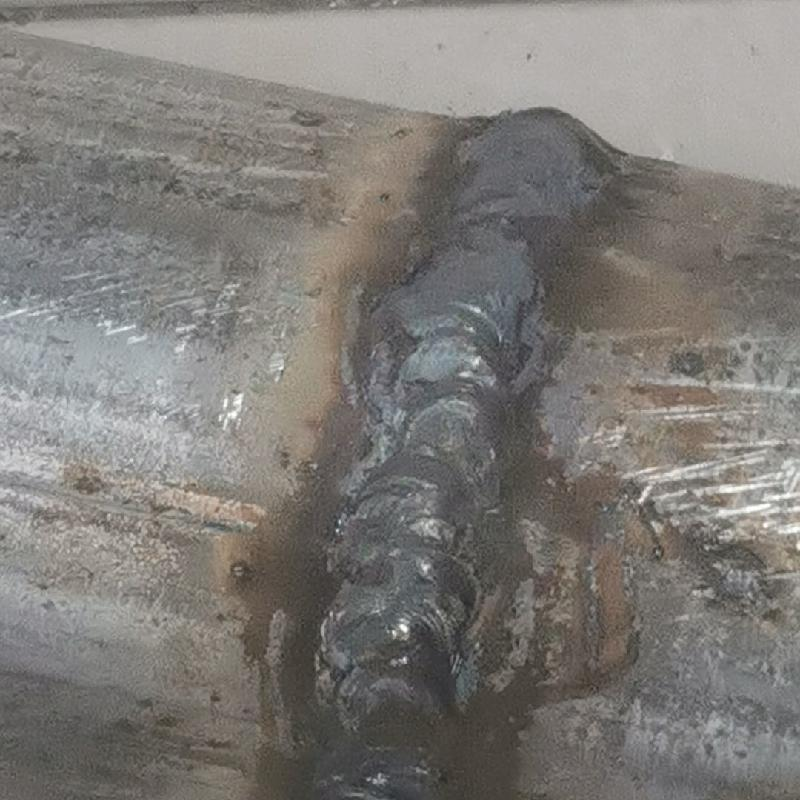good: (337, 66, 541, 795)
